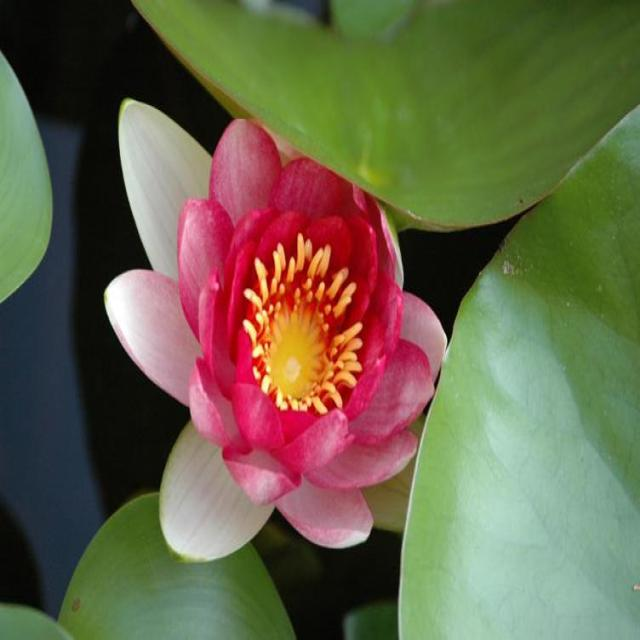rose: (32, 10, 566, 640)
